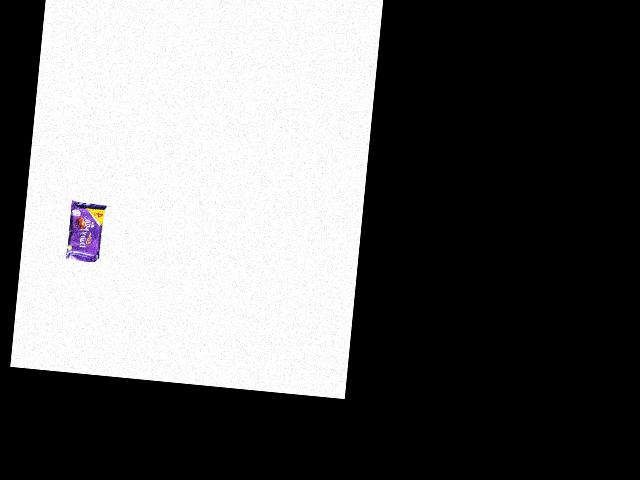chocolate: (60, 193, 107, 265)
